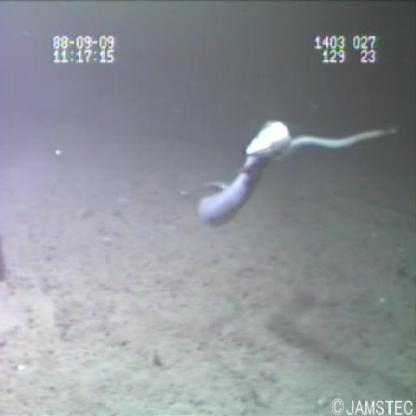Bio: (192, 112, 296, 234), (271, 120, 408, 169)
